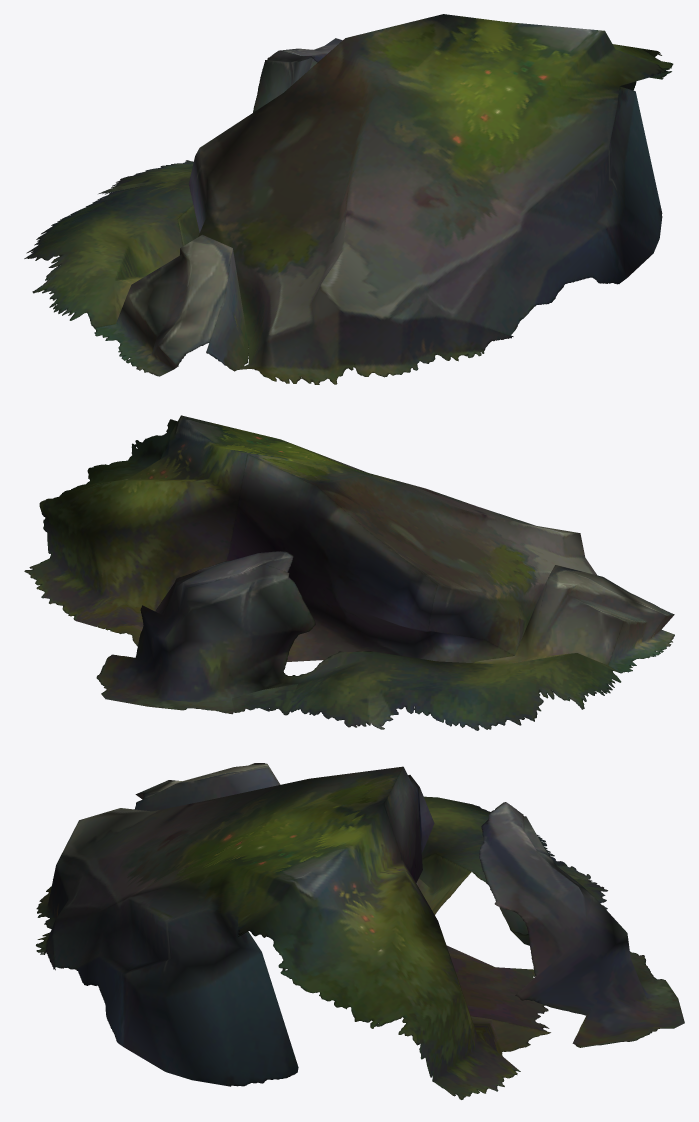
File: mossy_boulder.glb
3 renders of one model, top to bottom at view 1: azimuth 30°, elevation 25°; view 2: azimuth 150°, elevation 25°; view 3: azimuth 270°, elevation 25°, orthographic. The views are drawn at different scales.
Visible parts, largest first — view 1: mossy_boulder; view 2: mossy_boulder; view 3: mossy_boulder.
Part boxes in pixels (x1,y1,x2,y2): mossy_boulder: (24, 14, 673, 384); mossy_boulder: (24, 415, 674, 730); mossy_boulder: (36, 763, 684, 1099).
Bounding box in the file's own units: 2.5 × 0.7539 × 2.09.
Materials: 1 (1 with a texture image).
